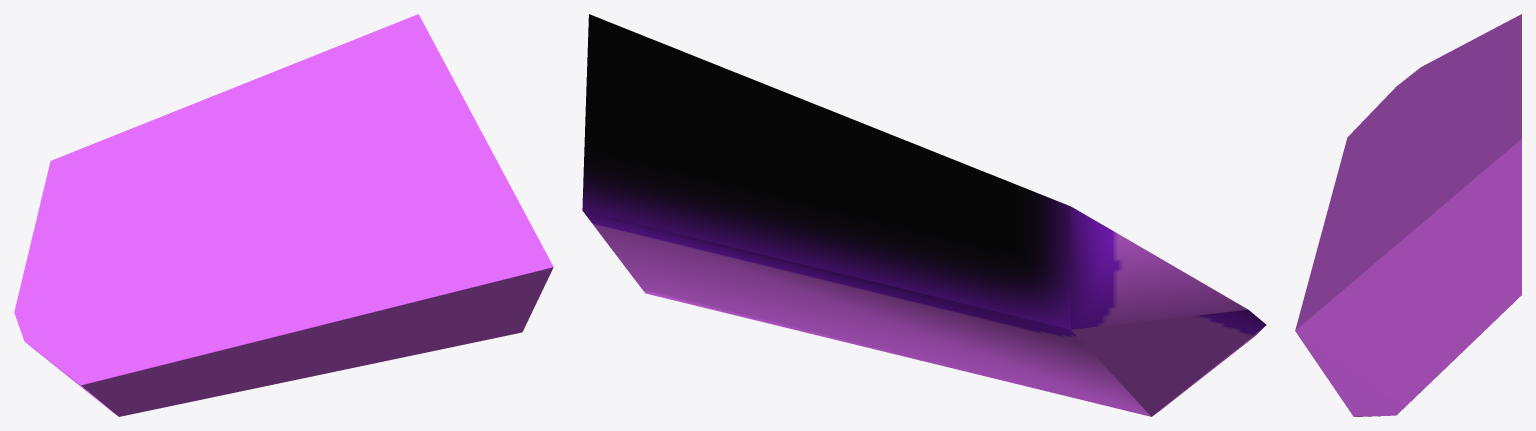
Rendered from blockParticle_6.gltf.
The picture shows the model from 3 angles, left to right: view 1: azimuth 30°, elevation 25°; view 2: azimuth 150°, elevation 25°; view 3: azimuth 270°, elevation 25°; orthographic projection. The views are drawn at different scales.
Visible parts, largest first — view 1: 立方体_cell.007; view 2: 立方体_cell.007; view 3: 立方体_cell.007.
Boxes of the visible parts, <box> form: 立方体_cell.007: <box>14,14,553,416</box>; 立方体_cell.007: <box>582,14,1266,416</box>; 立方体_cell.007: <box>1295,14,1521,416</box>.
Bounding box in the file's own units: 0.9523 × 0.4992 × 0.3832.
Materials: 2 (2 with a texture image).
